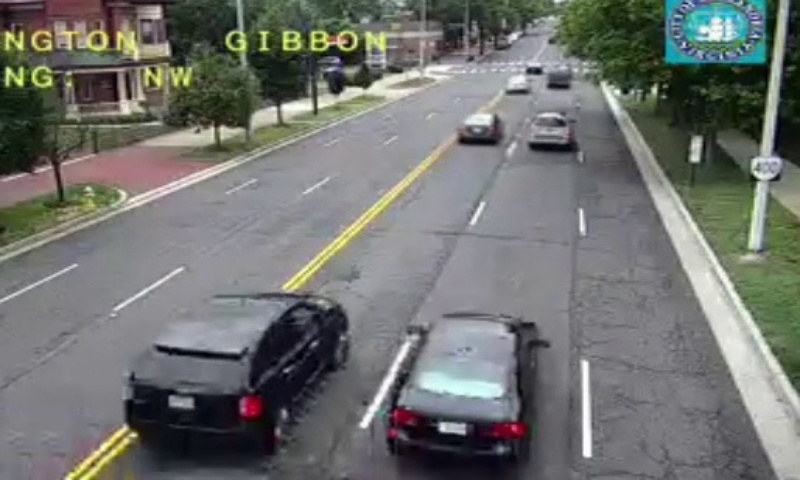car: (122, 292, 348, 440), (385, 311, 538, 460), (526, 111, 571, 146), (457, 113, 499, 142)
